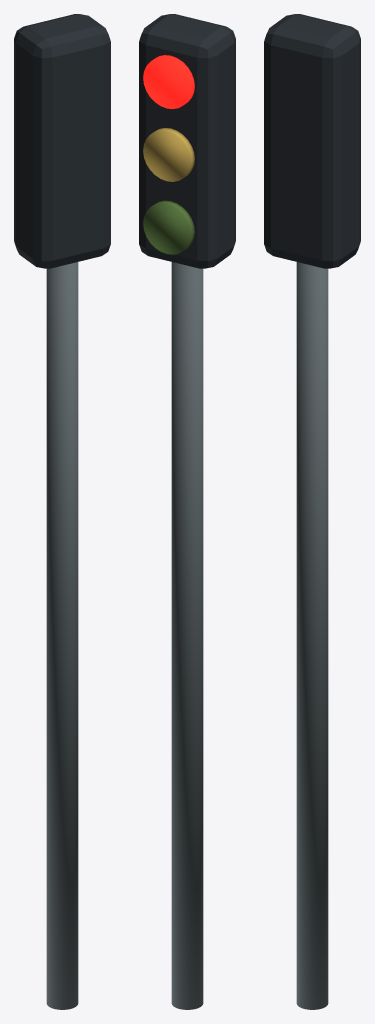
File: mc_signal.glb
3 renders of one model, left to right at view 1: azimuth 30°, elevation 25°; view 2: azimuth 150°, elevation 25°; view 3: azimuth 330°, elevation 25°, orthographic.
Visible parts, largest first — view 1: mc_signal__Geometry; view 2: mc_signal__Geometry; view 3: mc_signal__Geometry.
Boxes of the visible parts, bbox=[...] form: mc_signal__Geometry: bbox=[14, 14, 110, 1009]; mc_signal__Geometry: bbox=[139, 14, 235, 1009]; mc_signal__Geometry: bbox=[264, 14, 360, 1009].
Bounding box in the file's own units: 0.42 × 5.1 × 0.345.
